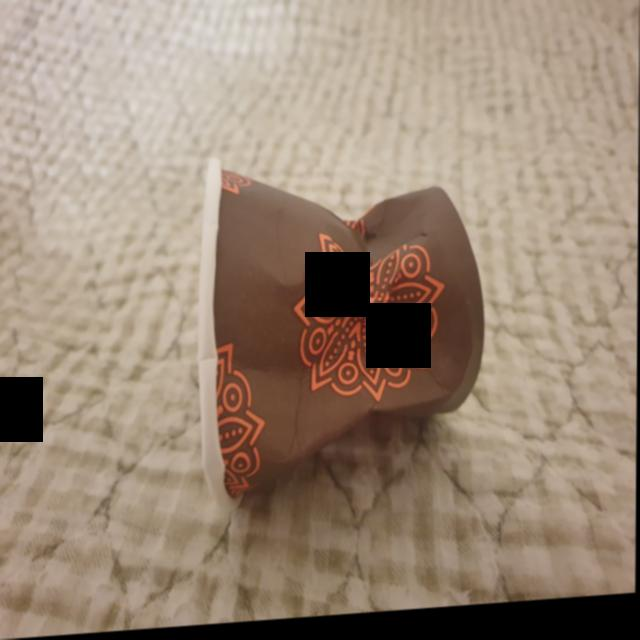cups: (194, 141, 491, 515)
